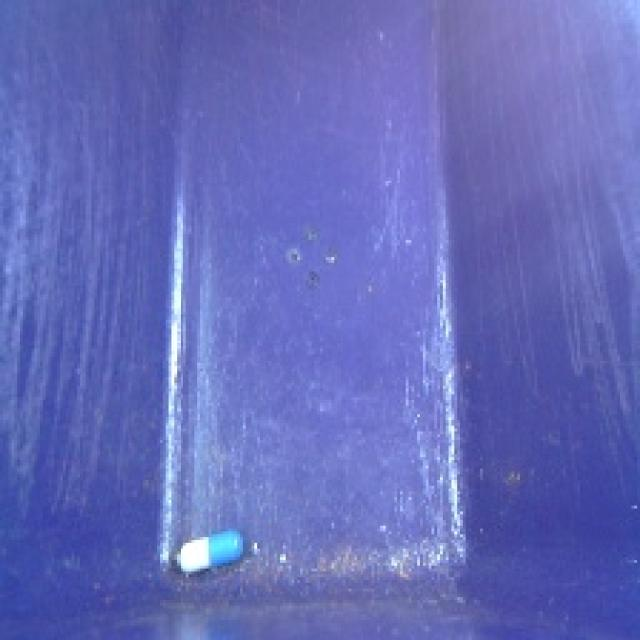small: (170, 523, 249, 582)
